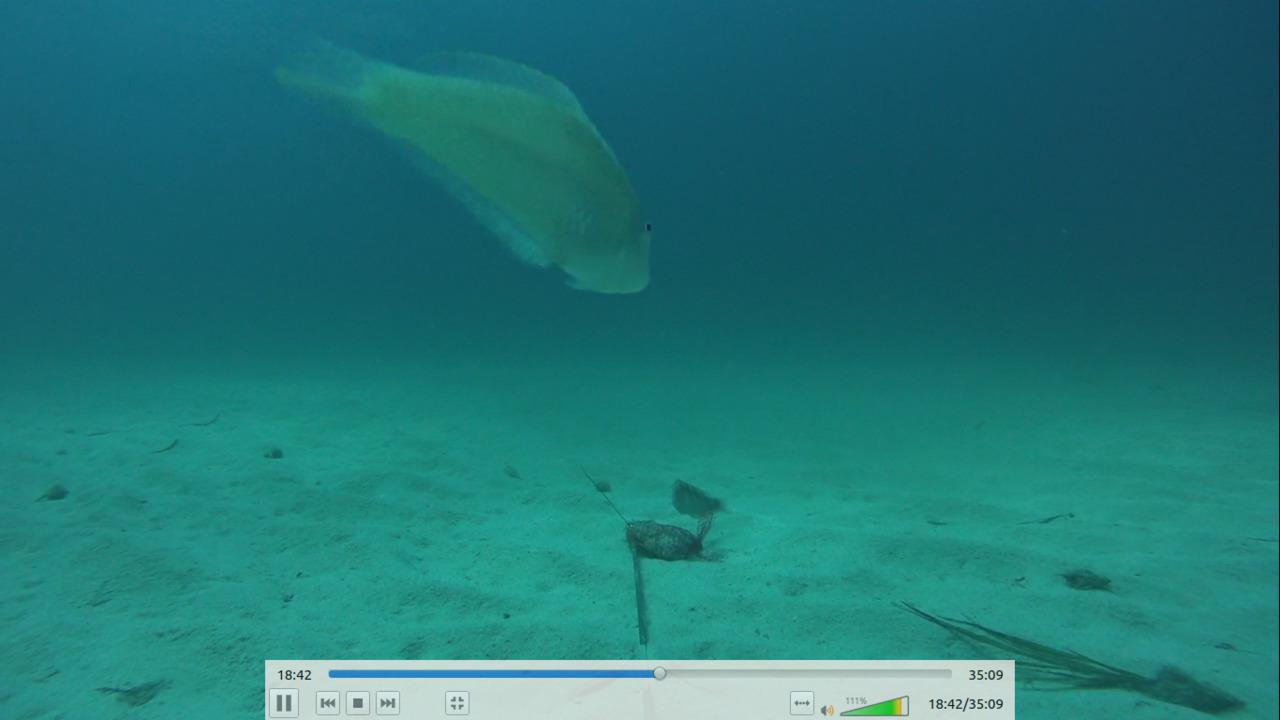raor: (271, 27, 658, 305), (658, 469, 728, 523)
